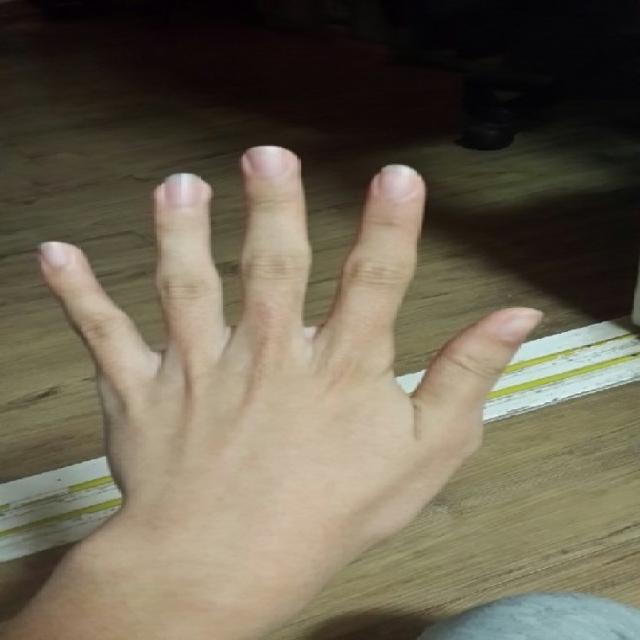Nail: (498, 307, 544, 339), (379, 166, 419, 202), (164, 174, 204, 209), (247, 145, 289, 175), (36, 242, 72, 270)
